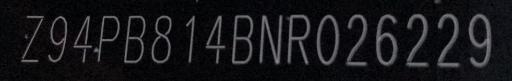letter: (434, 12, 464, 69), (314, 11, 342, 68), (466, 12, 494, 69), (285, 10, 313, 65), (372, 12, 400, 67), (256, 12, 284, 67), (404, 12, 432, 67), (229, 12, 255, 67), (344, 12, 370, 67), (19, 12, 45, 65), (148, 14, 174, 65), (203, 12, 227, 65), (46, 14, 70, 65), (96, 14, 120, 65), (122, 14, 146, 65), (71, 13, 93, 66), (182, 12, 200, 65)
